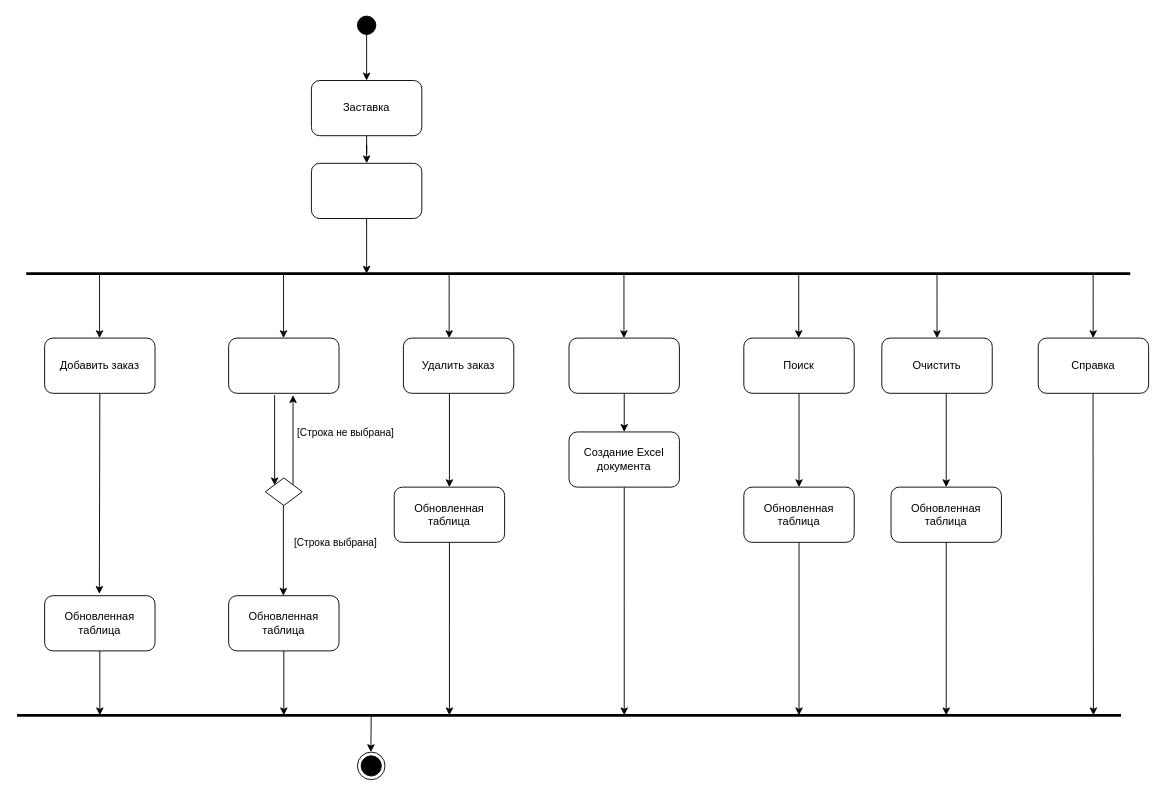
The diagram is 1165 pixels wide and 796 high, and some of its shapes have lost their labels. The shapes that lost their labels are listed below. From the top down, each one's centre as x and y in pixels, then its label:
At [366,190]: "Вход в программу".
At [283,365]: "Редактировать заказ".
At [623,365]: "Экспорт таблицы".
